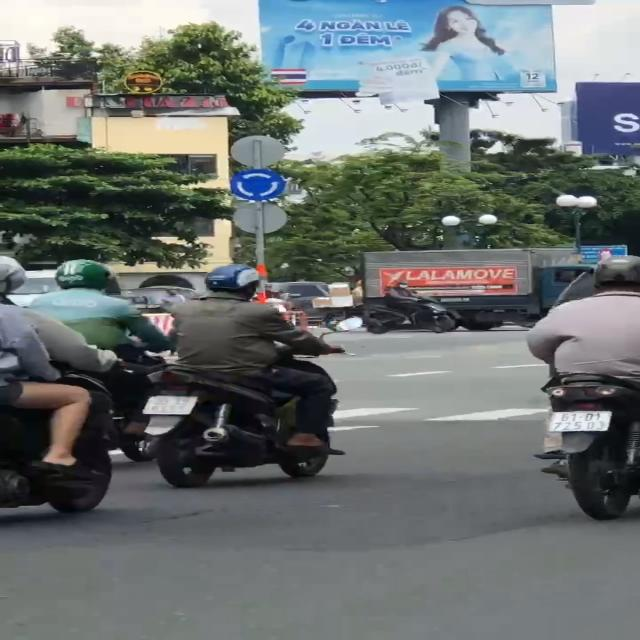Bien bao noi giao nhau chay theo vong xuyen: (230, 169, 284, 201)
